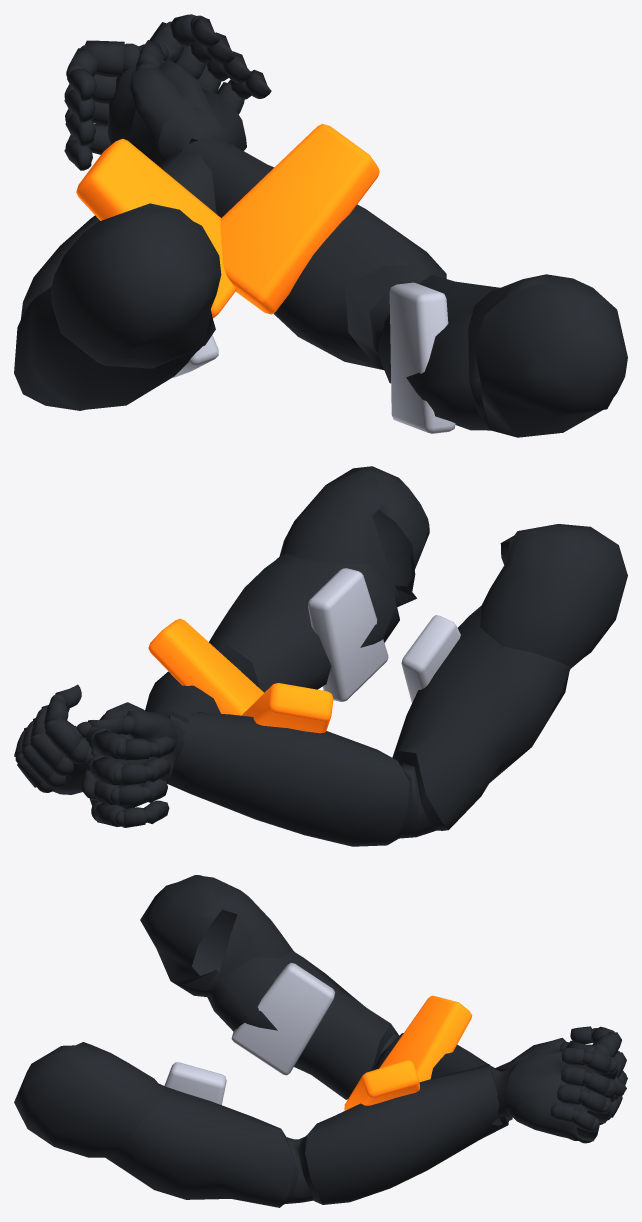
Rendered from kyx-view-arms.glb.
3 views of the same model, one above another, from view 1: azimuth 30°, elevation 25°; view 2: azimuth 150°, elevation 25°; view 3: azimuth 270°, elevation 25° (orthographic). The views are drawn at different scales.
Parts seen in each view (by area): view 1: KYX_ViewRight_Sleeve, KYX_ViewLeft_Sleeve, KYX_ViewRight_KYX_ForearmGuard_Right, KYX_ViewRight_Hand, KYX_ViewLeft_Hand, KYX_ViewLeft_KYX_ForearmGuard_Left, KYX_ViewRight_KYX_BicepGuard_Right, KYX_ViewLeft_KYX_BicepGuard_Left; view 2: KYX_ViewLeft_Sleeve, KYX_ViewRight_Sleeve, KYX_ViewRight_Hand, KYX_ViewRight_KYX_BicepGuard_Right, KYX_ViewLeft_Hand, KYX_ViewRight_KYX_ForearmGuard_Right, KYX_ViewLeft_KYX_ForearmGuard_Left, KYX_ViewLeft_KYX_BicepGuard_Left; view 3: KYX_ViewRight_Sleeve, KYX_ViewLeft_Sleeve, KYX_ViewLeft_Hand, KYX_ViewLeft_KYX_BicepGuard_Left, KYX_ViewLeft_KYX_ForearmGuard_Left, KYX_ViewRight_Hand, KYX_ViewRight_KYX_ForearmGuard_Right, KYX_ViewRight_KYX_BicepGuard_Right.
Boxes of the visible parts, x1,y1,x2,y2 form: KYX_ViewRight_Sleeve: (181,136,627,437); KYX_ViewLeft_Sleeve: (14,141,221,410); KYX_ViewRight_KYX_ForearmGuard_Right: (220,124,379,314); KYX_ViewRight_Hand: (64,40,199,170); KYX_ViewLeft_Hand: (149,14,271,150); KYX_ViewLeft_KYX_ForearmGuard_Left: (76,139,236,318); KYX_ViewRight_KYX_BicepGuard_Right: (389,282,455,433); KYX_ViewLeft_KYX_BicepGuard_Left: (173,335,218,377); KYX_ViewLeft_Sleeve: (167,524,627,846); KYX_ViewRight_Sleeve: (145,466,429,783); KYX_ViewRight_Hand: (73,710,186,827); KYX_ViewRight_KYX_BicepGuard_Right: (308,568,388,701); KYX_ViewLeft_Hand: (14,684,145,798); KYX_ViewRight_KYX_ForearmGuard_Right: (148,618,263,715); KYX_ViewLeft_KYX_ForearmGuard_Left: (242,683,333,733); KYX_ViewLeft_KYX_BicepGuard_Left: (401,615,460,702); KYX_ViewRight_Sleeve: (14,1042,508,1207); KYX_ViewLeft_Sleeve: (140,875,512,1125); KYX_ViewLeft_Hand: (493,1048,626,1143); KYX_ViewLeft_KYX_BicepGuard_Left: (231,963,335,1075); KYX_ViewLeft_KYX_ForearmGuard_Left: (379,995,472,1082); KYX_ViewRight_Hand: (494,1026,627,1120); KYX_ViewRight_KYX_ForearmGuard_Right: (344,1060,419,1110); KYX_ViewRight_KYX_BicepGuard_Right: (164,1062,226,1104).
Size of the model in its own units: 0.4464 by 0.2708 by 0.7303.
